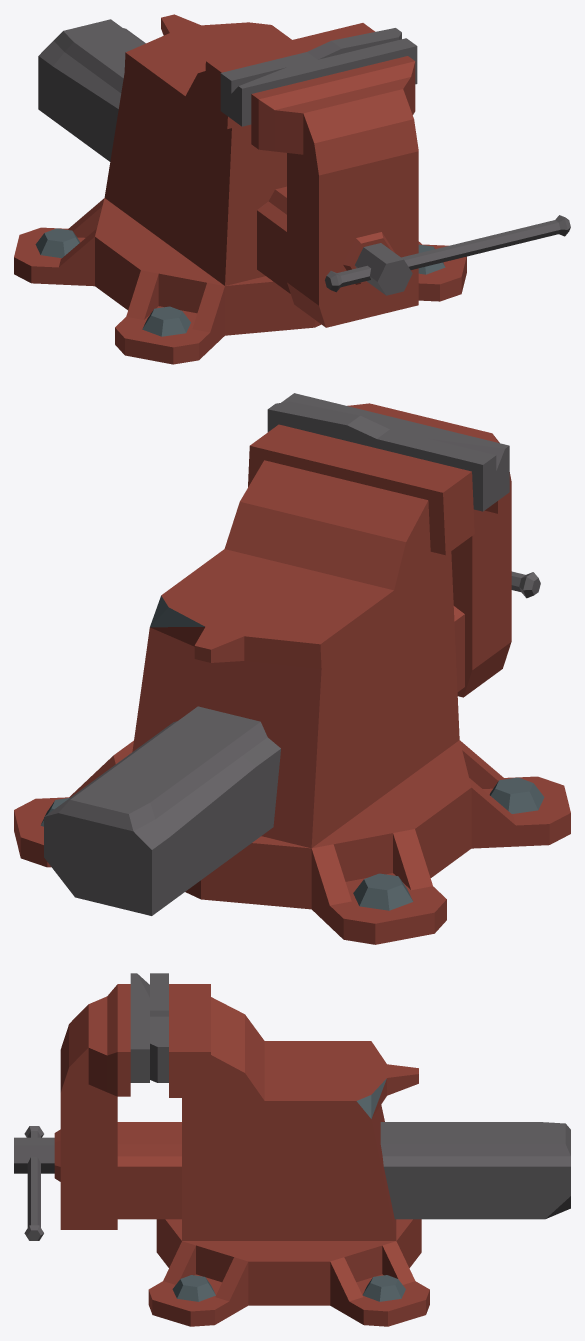
The model's file is SM_Vise.gltf.
3 views of the same model, one above another, from view 1: azimuth 30°, elevation 25°; view 2: azimuth 150°, elevation 25°; view 3: azimuth 270°, elevation 25° (orthographic). The views are drawn at different scales.
Visible parts, largest first — view 1: SM_Vise, SM_Vise_Bracket, SM_Vise_Arm; view 2: SM_Vise, SM_Vise_Bracket; view 3: SM_Vise, SM_Vise_Bracket, SM_Vise_Arm.
Boxes of the visible parts, x1,y1,x2,y2 form: SM_Vise: [14, 14, 466, 364]; SM_Vise_Bracket: [38, 19, 418, 327]; SM_Vise_Arm: [325, 215, 570, 295]; SM_Vise: [14, 401, 570, 944]; SM_Vise_Bracket: [44, 393, 511, 915]; SM_Vise: [148, 973, 429, 1326]; SM_Vise_Bracket: [54, 973, 570, 1229]; SM_Vise_Arm: [14, 1126, 54, 1240].
Bounding box in the file's own units: 0.3865 × 0.2875 × 0.5904.
1 material, 1 textured.
